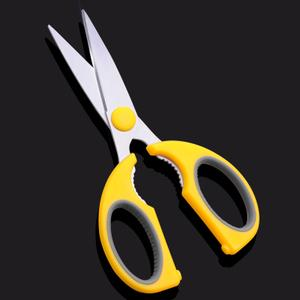scissor: (47, 10, 261, 294)
